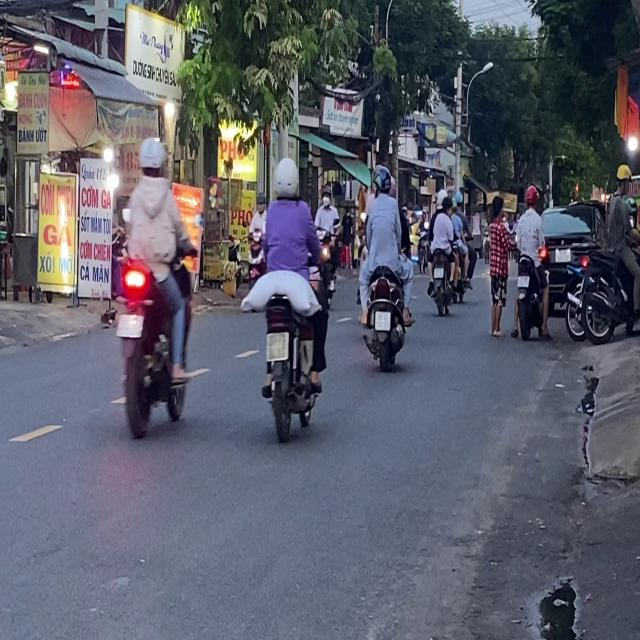helmet: (138, 134, 166, 178), (273, 156, 299, 199), (372, 163, 392, 195), (615, 163, 631, 191), (523, 184, 538, 209)
licenseplate: (239, 153, 330, 441), (112, 132, 195, 438), (356, 162, 414, 370), (512, 183, 551, 340)
nohelmet: (116, 313, 143, 337), (266, 332, 288, 360), (375, 311, 390, 330), (517, 275, 529, 287)
